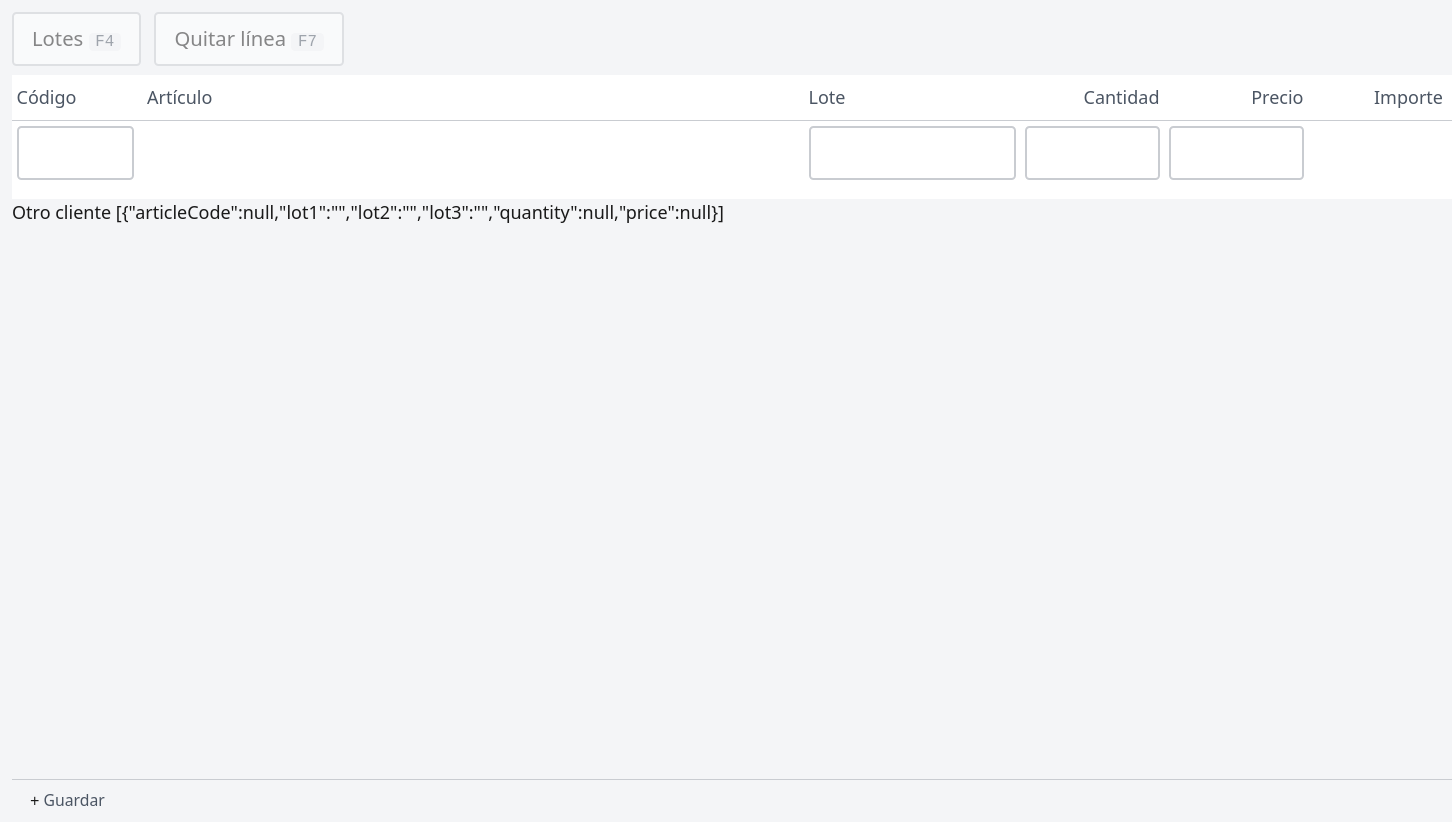
Test case: LinesGrid › a price typed while the proposal is on its way wins
Click the 1st field named "Código". click: click(75, 152)
box: [16,126,134,180]
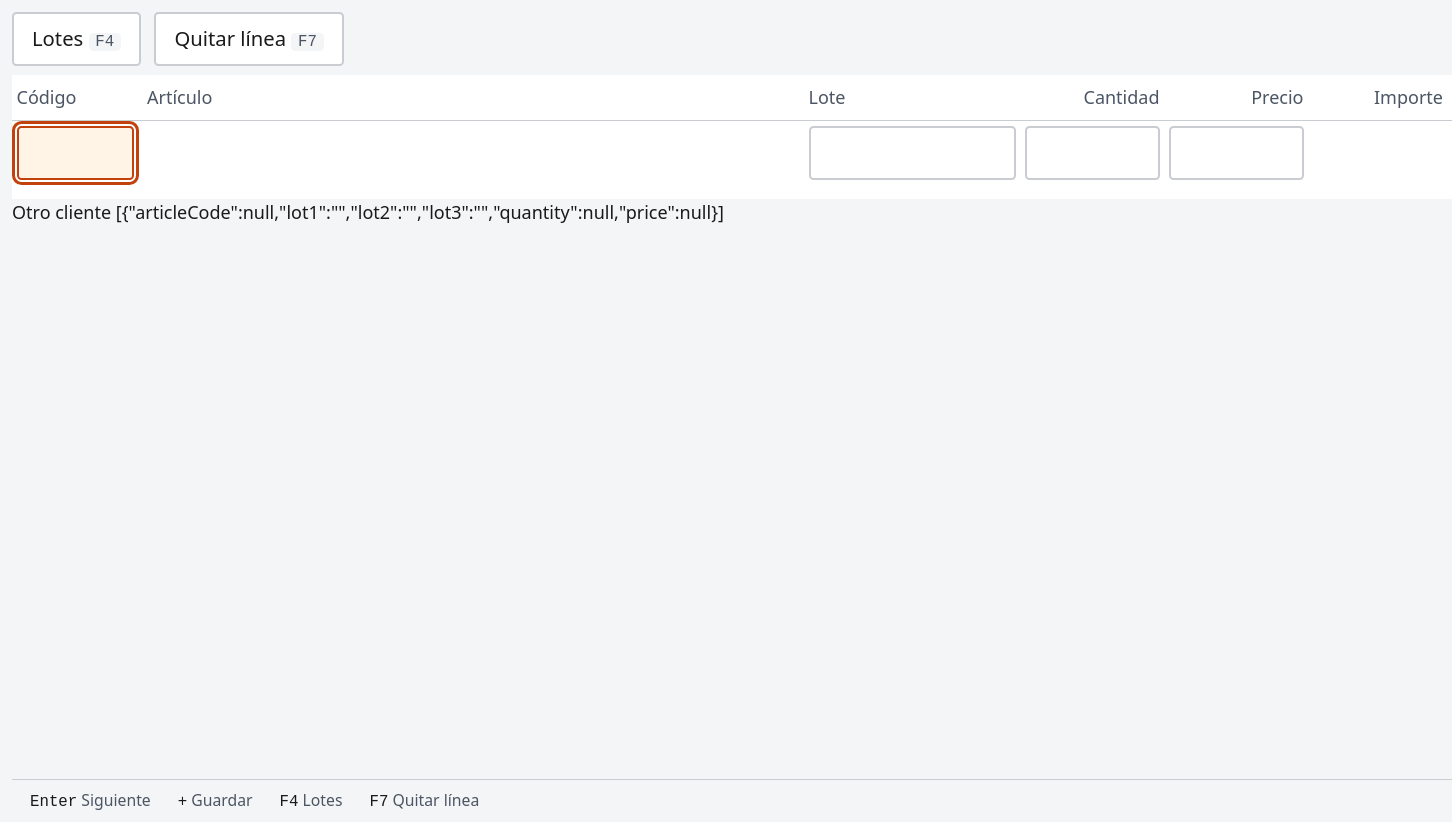
Type keys "12{Enter}"
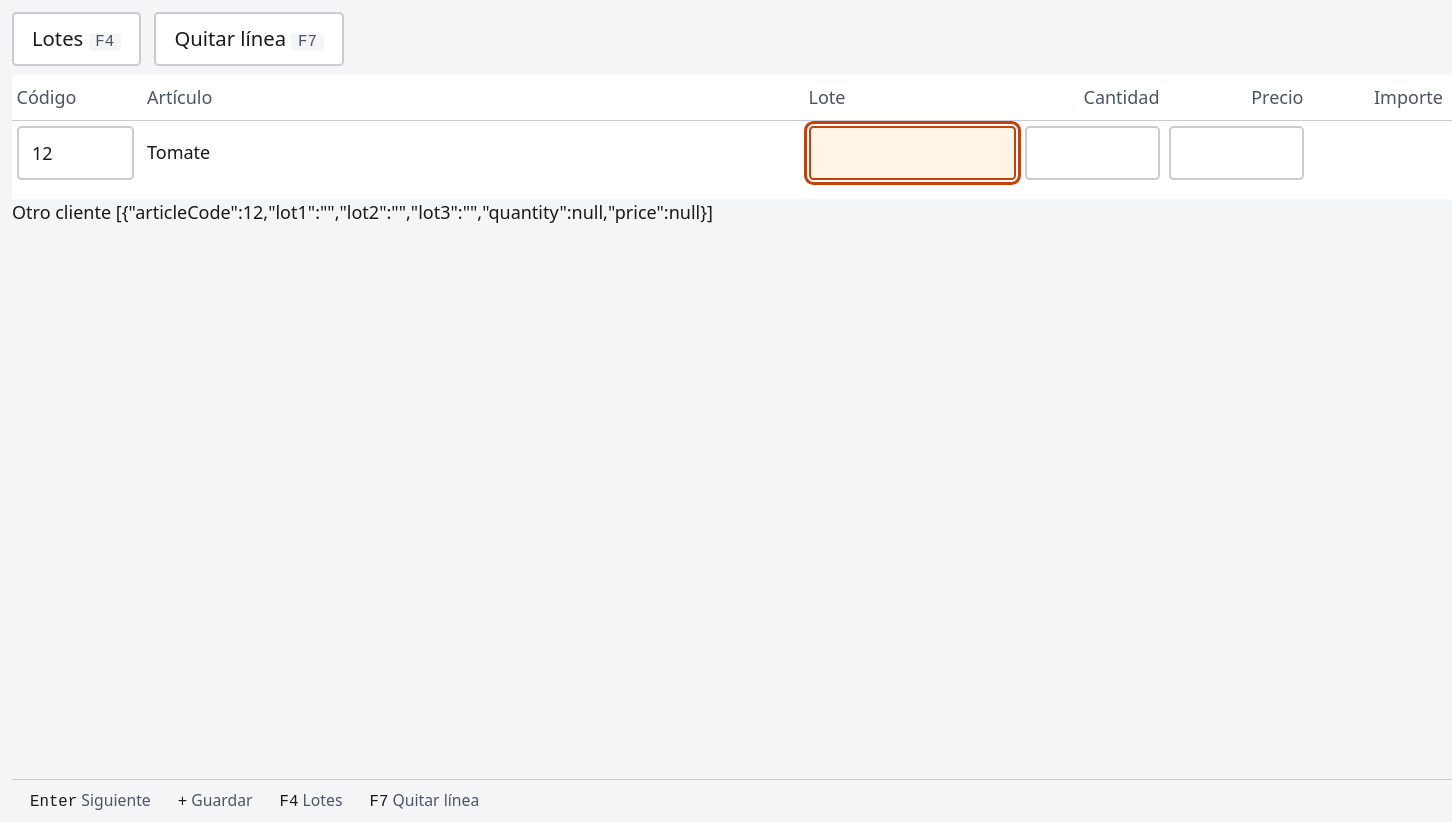
Click the 4th field named "Precio". click: click(1236, 152)
box: [1168,126,1304,180]
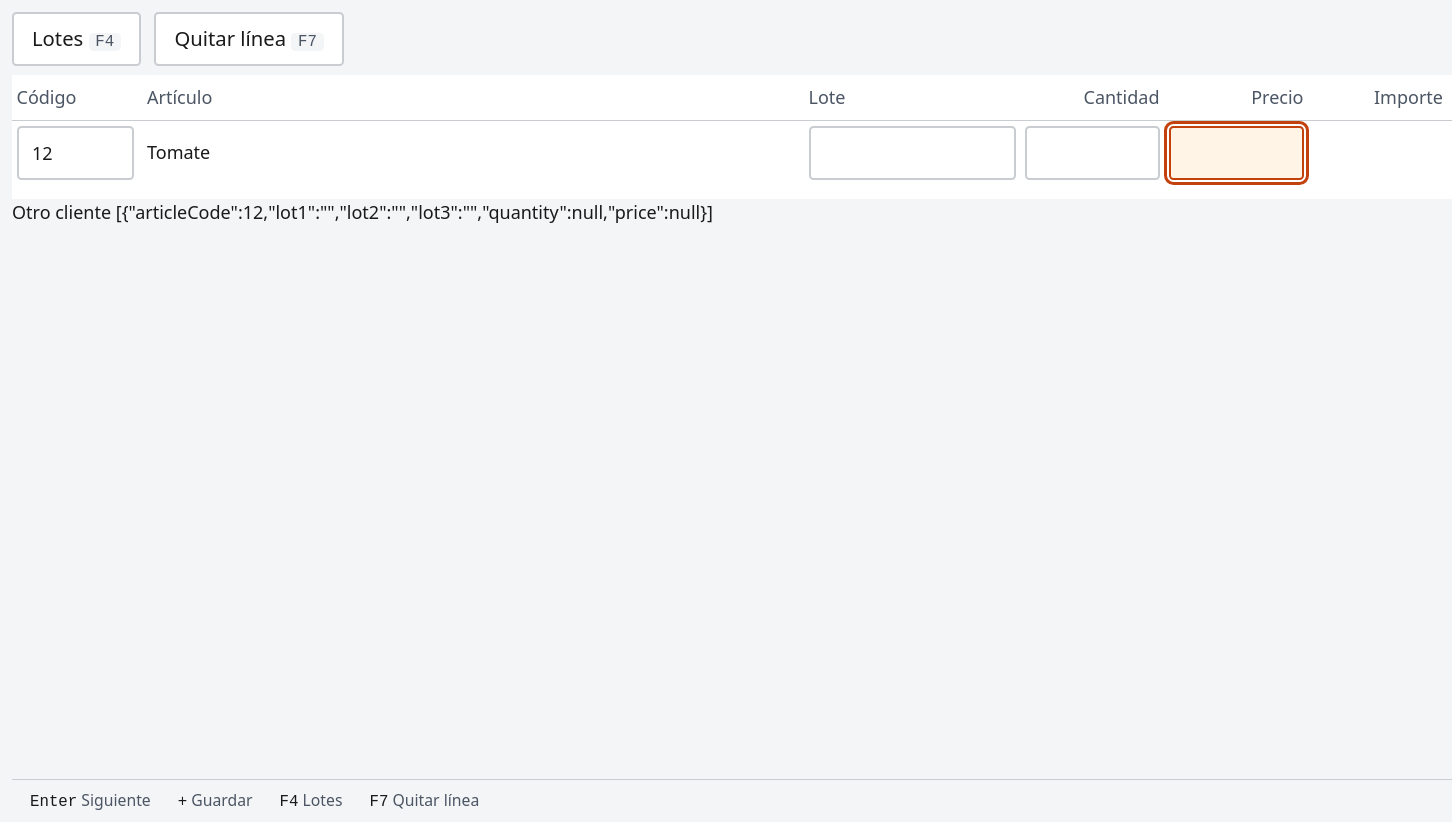
Type keys "3"
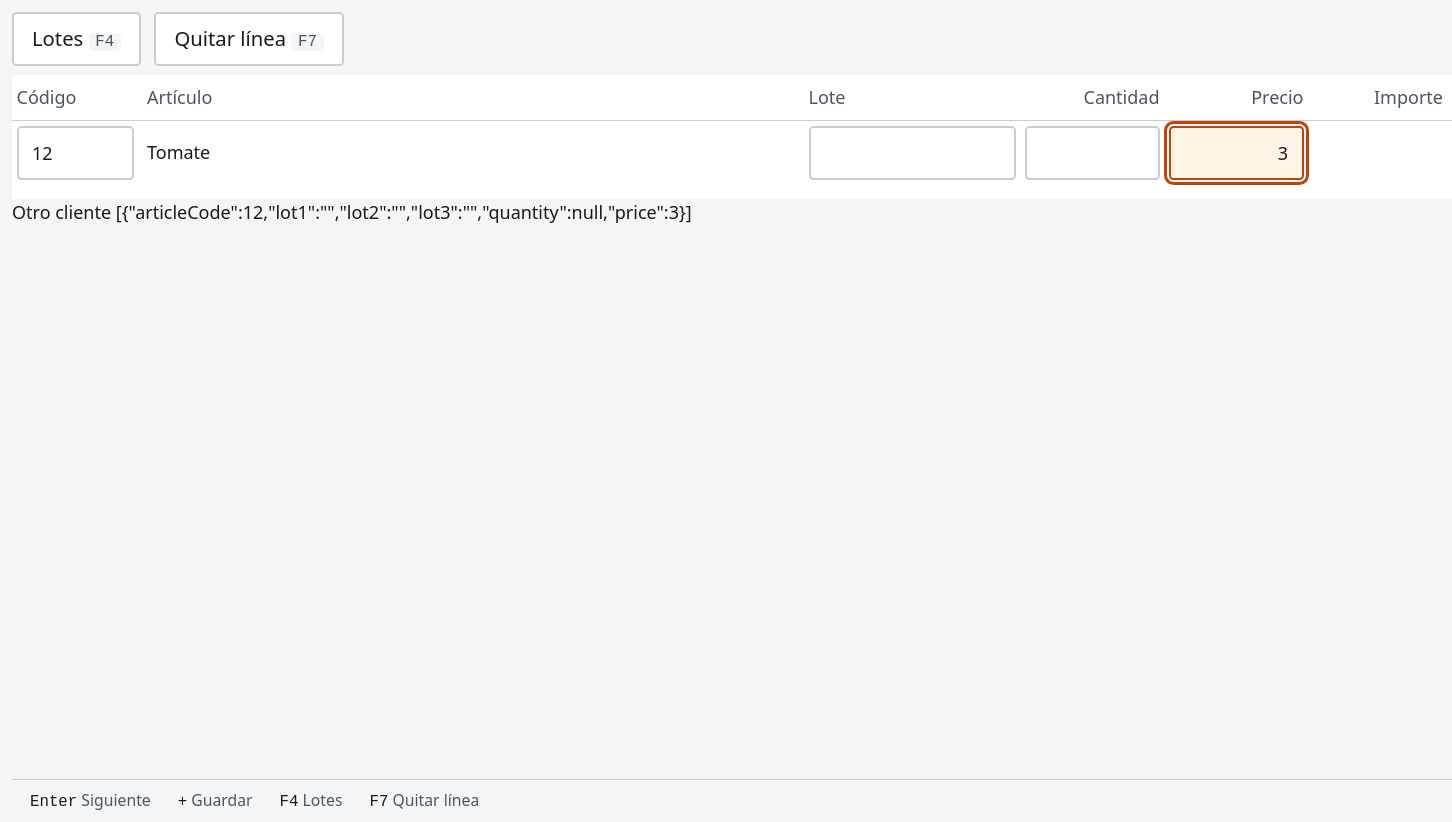
Check: the 4th field named "Precio" holds "3", box [1168,126,1304,180]
